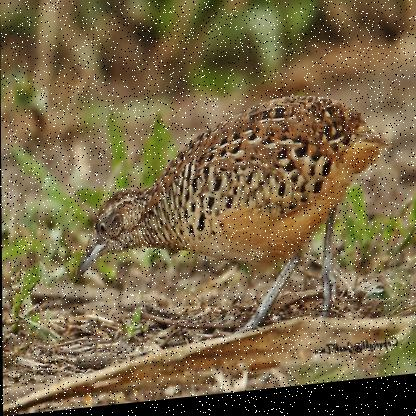Burung: (75, 94, 394, 350)
